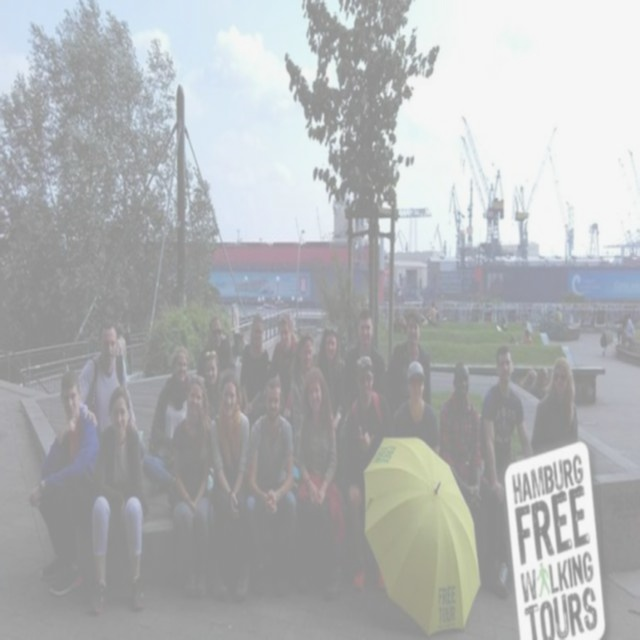pessoa: (26, 366, 104, 600), (86, 381, 150, 616), (244, 373, 298, 602), (168, 372, 218, 604), (291, 364, 339, 605), (76, 317, 148, 465), (210, 371, 253, 598), (478, 344, 532, 506), (437, 356, 486, 524), (142, 342, 192, 496), (388, 358, 442, 454), (342, 306, 388, 418), (530, 355, 580, 457), (314, 326, 348, 463), (389, 311, 433, 407), (238, 312, 272, 436), (348, 354, 383, 469), (288, 332, 315, 470), (270, 311, 300, 427), (391, 296, 463, 334), (538, 300, 598, 342), (198, 315, 234, 375), (600, 311, 634, 363), (203, 349, 222, 419), (262, 304, 282, 351), (116, 324, 130, 388), (231, 323, 245, 378), (521, 326, 536, 361), (496, 308, 512, 340), (230, 298, 240, 328)
